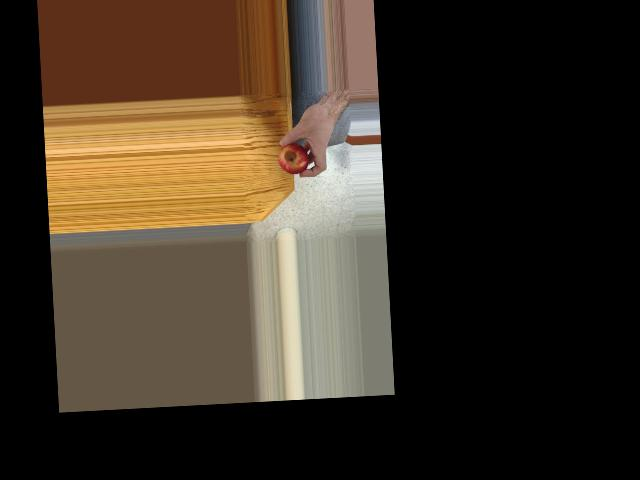apple: (277, 141, 307, 175)
